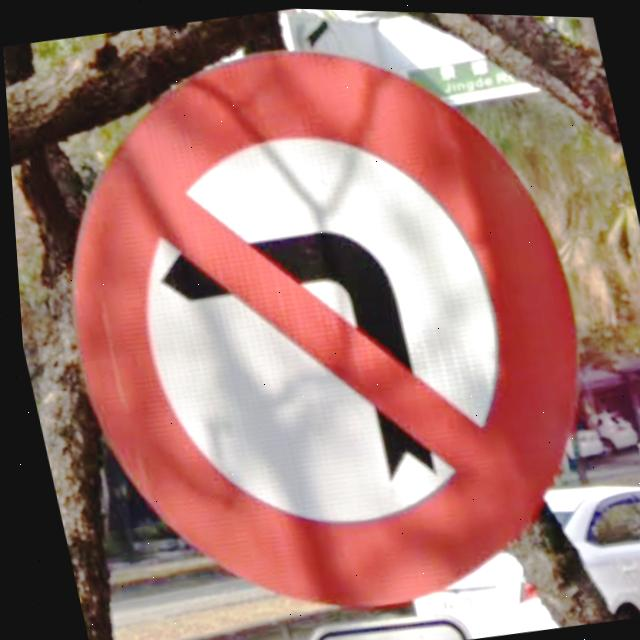noturnleft: (70, 51, 575, 608)
